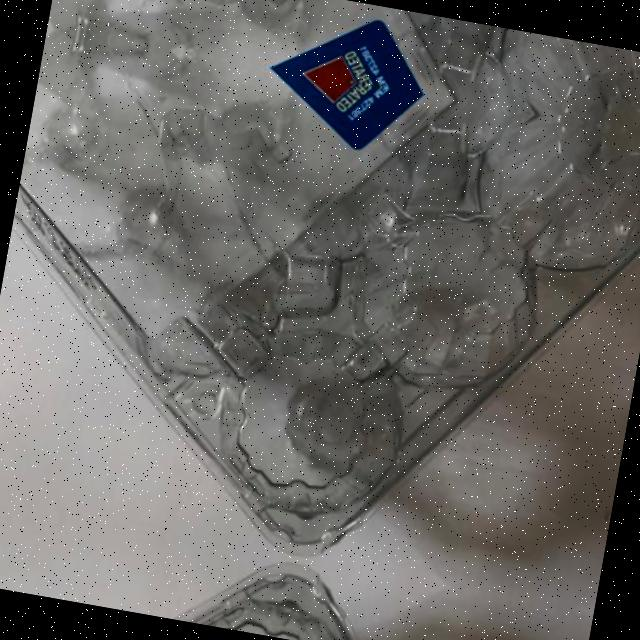Plastic: (0, 27, 640, 600), (47, 0, 640, 137), (0, 511, 591, 640)
